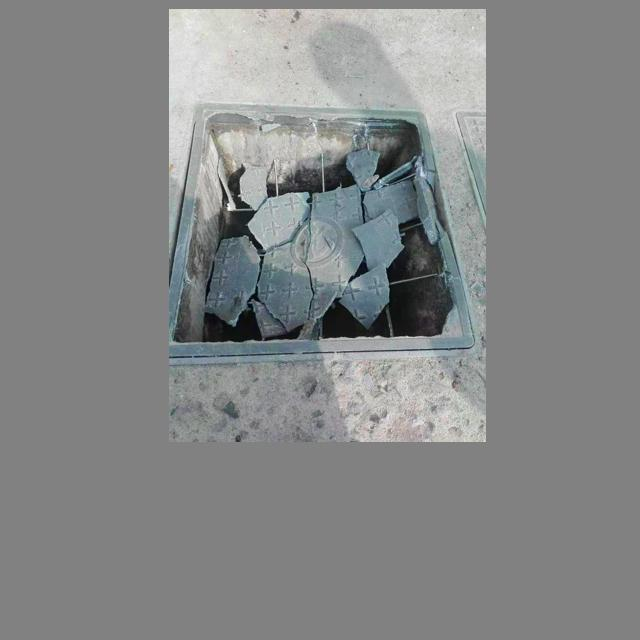broke: (177, 106, 462, 367)
